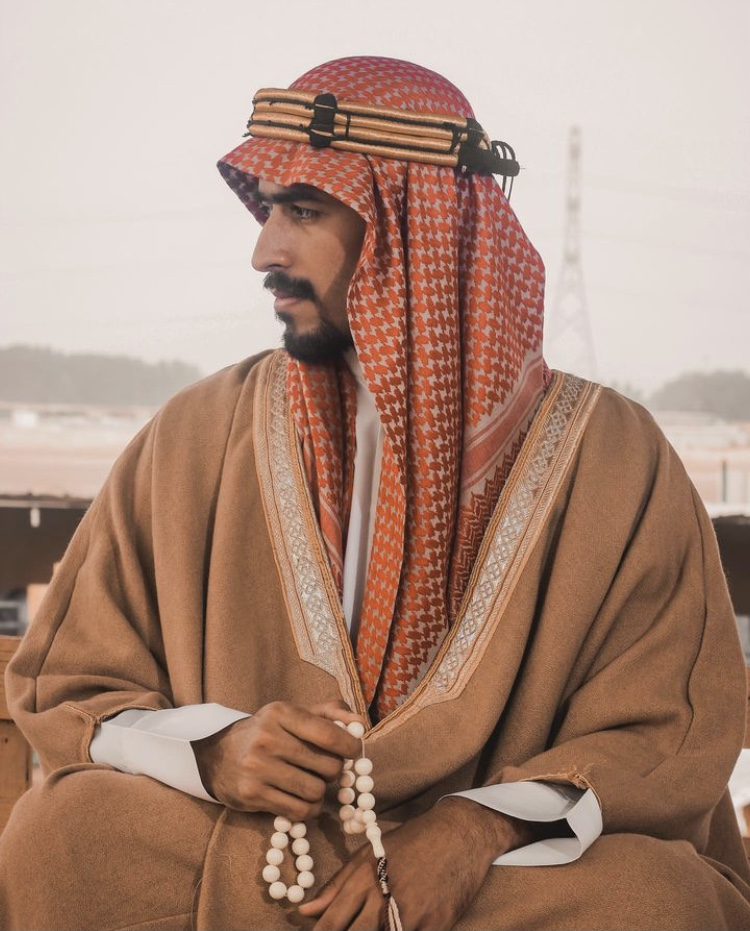Saudi_Founding_Day: (1, 50, 745, 931)
